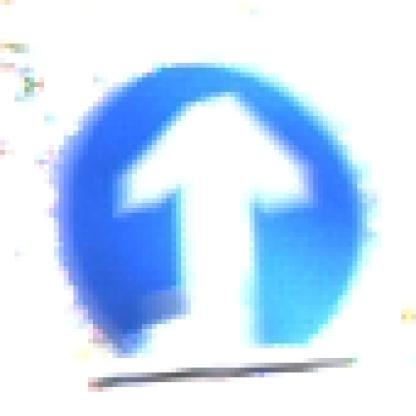AheadOnly: (40, 40, 383, 383)
